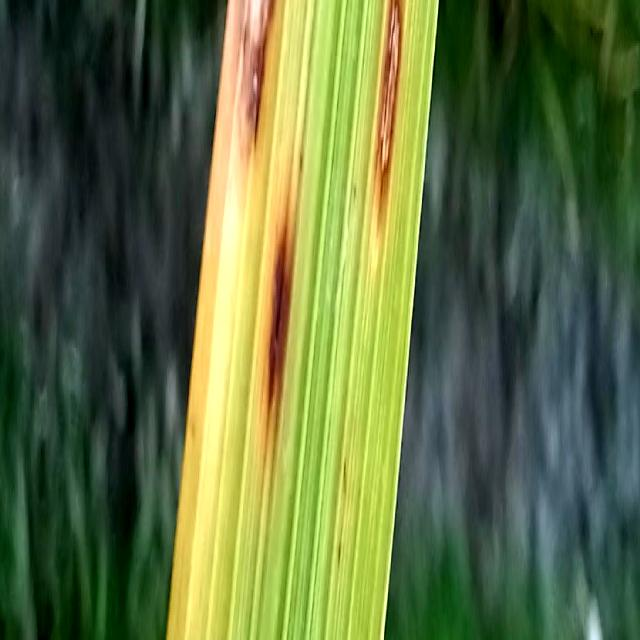LEAF BLAST: (238, 0, 273, 180), (267, 211, 290, 442), (377, 0, 403, 203)
